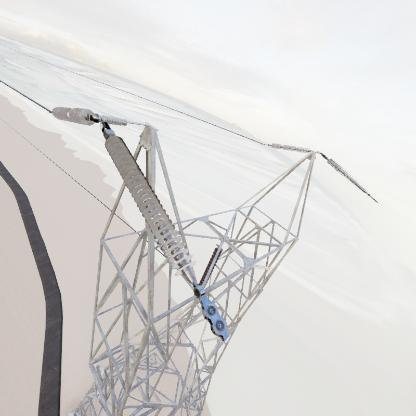insulator: (103, 135, 197, 276), (327, 157, 373, 196)
